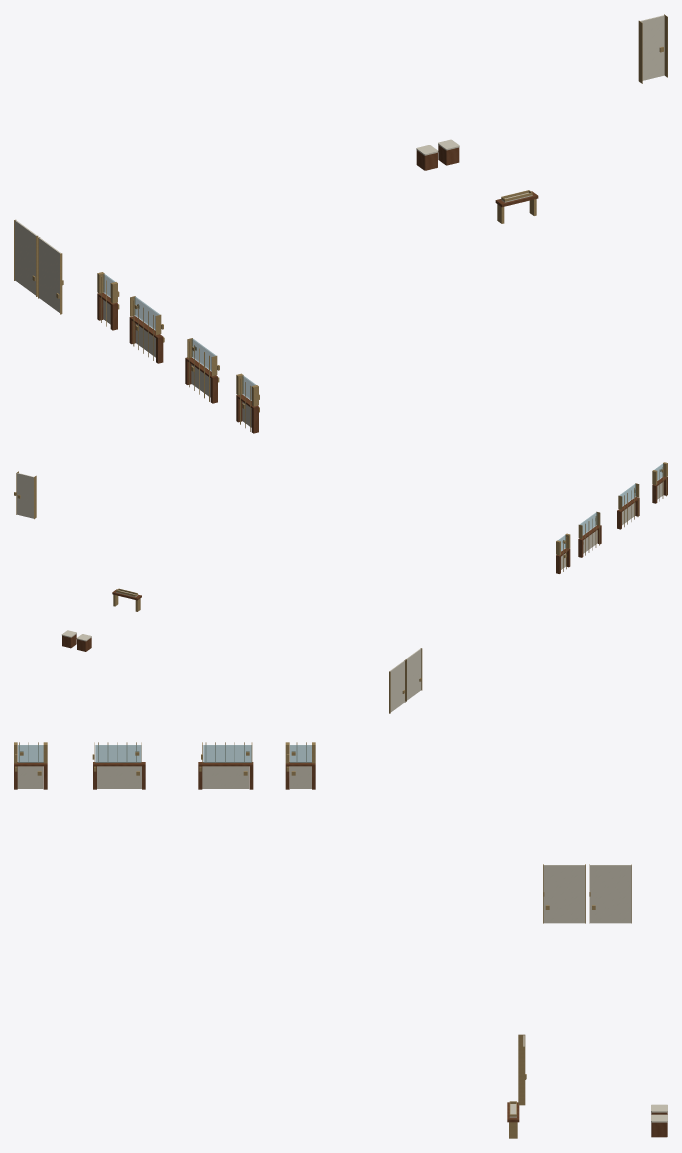
The model's file is D04_PHYSICAL_FITTINGS_r010.glb.
3 views of the same model, one above another, from view 1: azimuth 30°, elevation 25°; view 2: azimuth 150°, elevation 25°; view 3: azimuth 270°, elevation 25° (orthographic). The views are drawn at different scales.
Parts seen in each view (by area): view 1: D04PC_CourtSouth_Leaf, D04PC_StaffUsed_Leaf, D04PC_StaffClean_Leaf; view 2: D04PC_CourtSouth_Leaf, D04PC_StaffUsed_Leaf, D04PC_StaffClean_Leaf; view 3: D04PC_StaffClean_Leaf, D04PC_StaffUsed_Leaf, D04PC_Hatch_952_1_Leaf, D04PC_Hatch_928_0_Leaf, D04PC_ToolPane_952_1_Leaf, D04PC_ToolPane_928_0_Leaf, D04PC_Hatch_928_1_Leaf.
Boxes of the visible parts, x1,y1,x2,y2 form: D04PC_CourtSouth_Leaf: (640, 15, 664, 80); D04PC_StaffUsed_Leaf: (15, 220, 37, 295); D04PC_StaffClean_Leaf: (39, 238, 60, 312); D04PC_CourtSouth_Leaf: (17, 473, 33, 518); D04PC_StaffUsed_Leaf: (389, 660, 404, 712); D04PC_StaffClean_Leaf: (406, 648, 421, 700); D04PC_StaffClean_Leaf: (543, 865, 585, 923); D04PC_StaffUsed_Leaf: (590, 865, 631, 923); D04PC_Hatch_952_1_Leaf: (202, 766, 249, 788); D04PC_Hatch_928_0_Leaf: (97, 766, 141, 788); D04PC_ToolPane_952_1_Leaf: (203, 745, 251, 762); D04PC_ToolPane_928_0_Leaf: (95, 745, 141, 762); D04PC_Hatch_928_1_Leaf: (17, 766, 43, 788).
Size of the model in its own units: 31.6 by 7.2 by 27.31.
4 materials, 3 textured.
